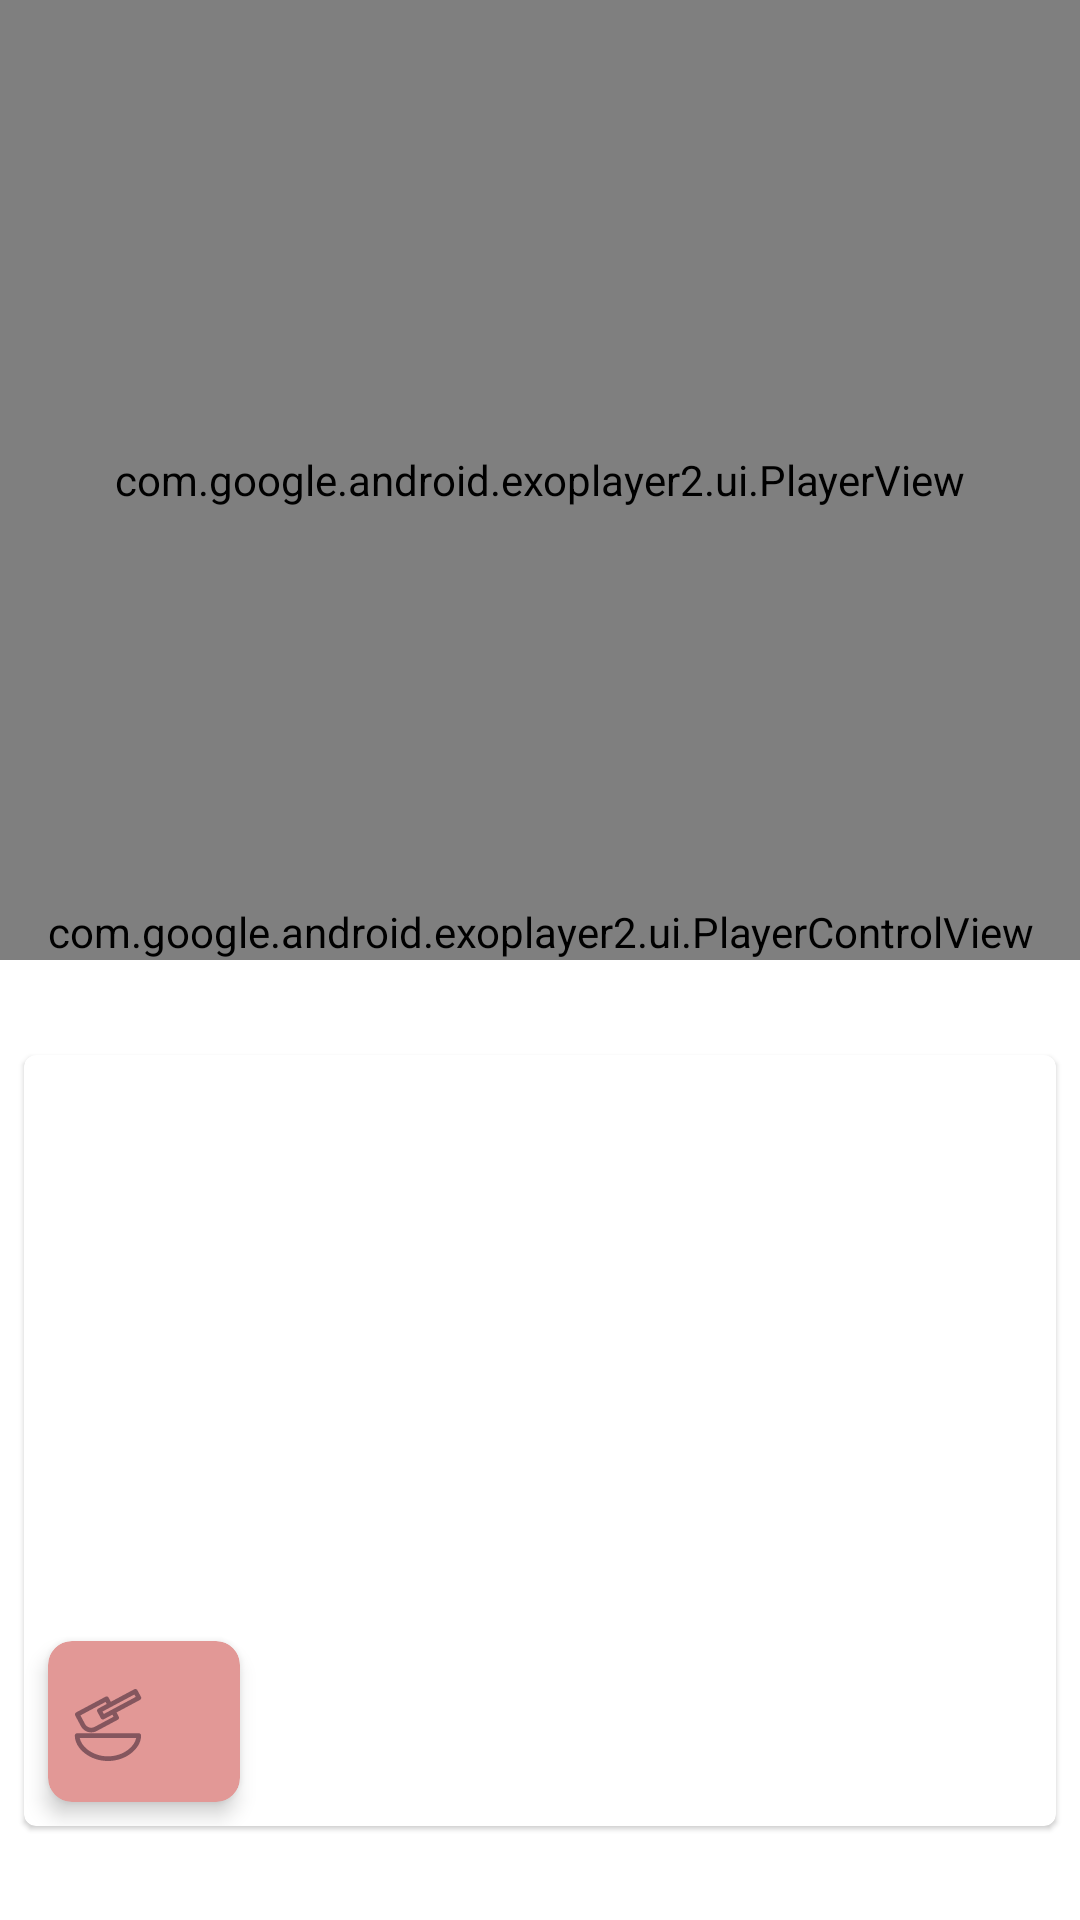

Point at icon controls on the screen. Image size 1080×1920, points as (x,y).
Instructions: (108,1725)
